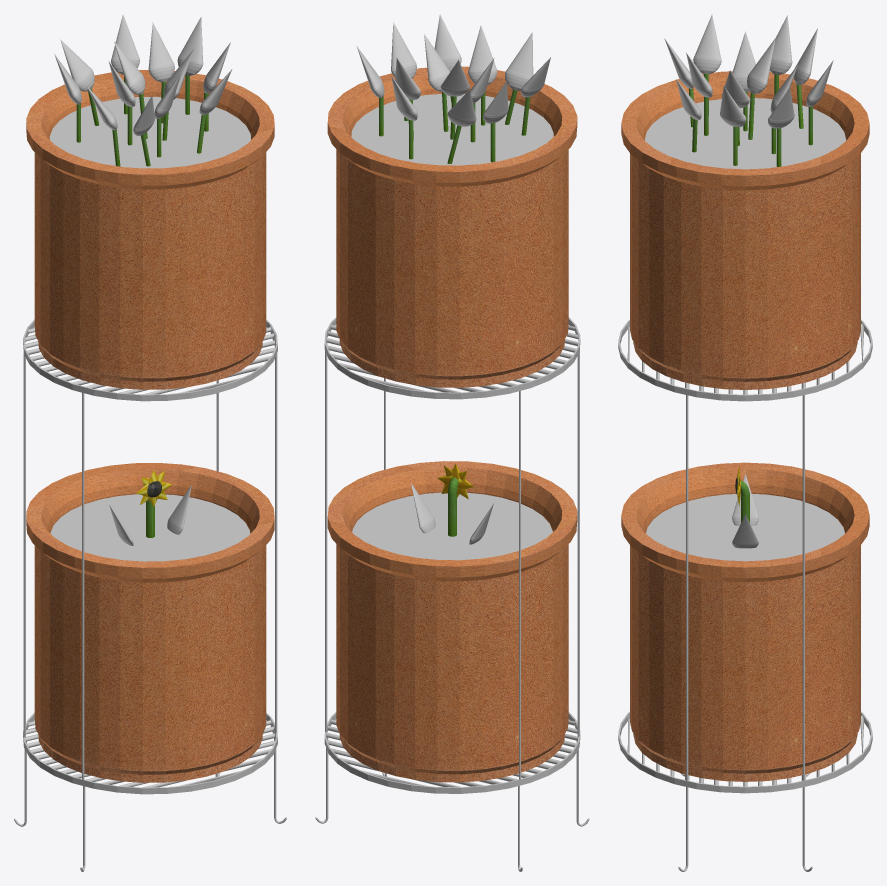
Rendered from LabFlowers1.fbx.
The picture shows the model from 3 angles, left to right: view 1: azimuth 30°, elevation 25°; view 2: azimuth 150°, elevation 25°; view 3: azimuth 270°, elevation 25°; orthographic projection.
Visible parts, largest first — view 1: Cylinder, Cylinder.045, Cylinder.023, Cylinder.044, Cylinder.002, Cylinder.025, Cylinder.048, Cylinder.047, Cylinder.049, Cone.011, Cone.017, Cone.014 (+3 smaller); view 2: Cylinder, Cylinder.045, Cylinder.023, Cylinder.044, Cylinder.002, Cylinder.025, Cylinder.048, Cylinder.046, Cone.012, Cone.021, Cone.016, Cylinder.047 (+7 smaller); view 3: Cylinder, Cylinder.045, Cylinder.023, Cylinder.044, Cylinder.002, Cylinder.025, Cylinder.046, Cylinder.049, Cone.013, Cone.022, Cone.015, Cone.010 (+4 smaller).
Part boxes in pixels (<box>): Cylinder: <box>26,463,274,782</box>; Cylinder.045: <box>26,70,274,389</box>; Cylinder.023: <box>50,494,250,561</box>; Cylinder.044: <box>49,96,250,168</box>; Cylinder.002: <box>23,319,277,401</box>; Cylinder.025: <box>23,712,277,794</box>; Cylinder.048: <box>82,392,84,779</box>; Cylinder.047: <box>23,354,25,737</box>; Cylinder.049: <box>275,353,277,732</box>; Cone.011: <box>148,22,174,82</box>; Cone.017: <box>177,17,203,75</box>; Cone.014: <box>60,39,94,91</box>; Cylinder: <box>327,461,577,782</box>; Cylinder.045: <box>327,66,577,387</box>; Cylinder.023: <box>352,492,552,560</box>; Cylinder.044: <box>351,94,553,165</box>; Cylinder.002: <box>324,317,580,399</box>; Cylinder.025: <box>324,711,580,793</box>; Cylinder.048: <box>577,350,579,737</box>; Cylinder.046: <box>325,343,327,732</box>; Cone.012: <box>505,32,533,90</box>; Cone.021: <box>468,25,497,84</box>; Cone.016: <box>434,14,461,71</box>; Cylinder.047: <box>519,391,520,779</box>; Cylinder: <box>621,462,869,781</box>; Cylinder.045: <box>621,71,869,389</box>; Cylinder.023: <box>646,494,844,561</box>; Cylinder.044: <box>644,98,846,169</box>; Cylinder.002: <box>618,319,872,401</box>; Cylinder.025: <box>618,711,872,793</box>; Cylinder.046: <box>802,395,804,780</box>; Cylinder.049: <box>686,395,688,780</box>; Cone.013: <box>693,14,721,74</box>; Cone.022: <box>769,15,792,74</box>; Cone.015: <box>747,38,775,94</box>; Cone.010: <box>732,31,755,91</box>.
Bounding box in the file's own units: 227 × 763 × 227.
